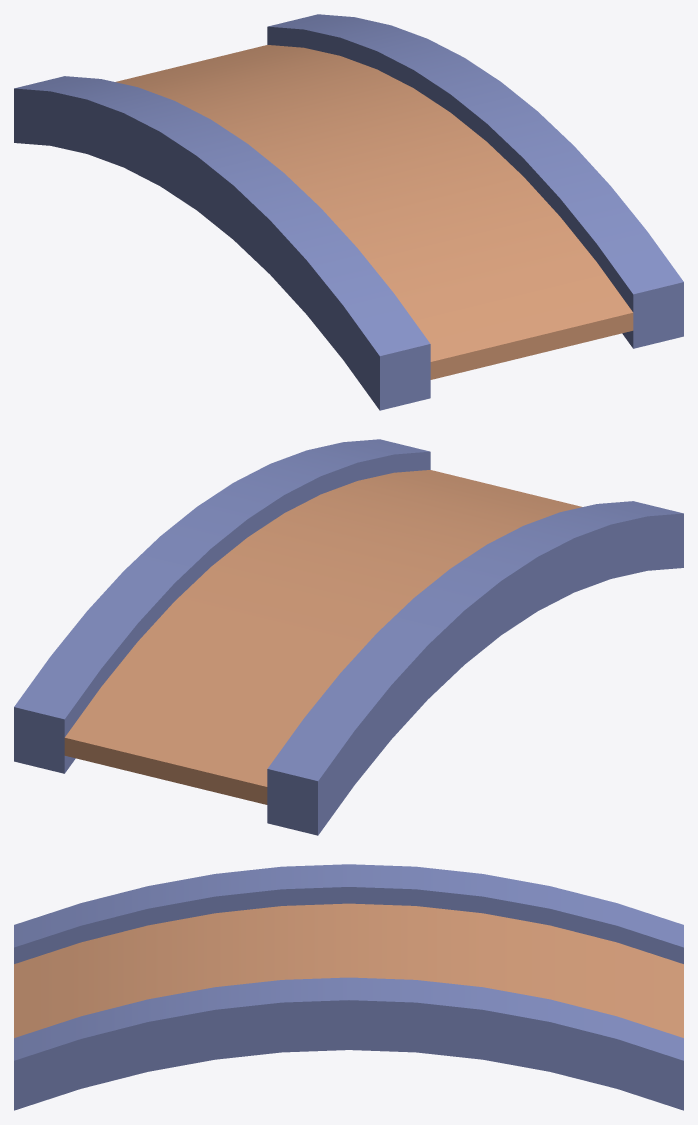
Rendered from bridge_2b_1.fbx.
The picture shows the model from 3 angles, top to bottom: view 1: azimuth 30°, elevation 25°; view 2: azimuth 150°, elevation 25°; view 3: azimuth 270°, elevation 25°; orthographic projection. The views are drawn at different scales.
Parts seen in each view (by area): view 1: bridge_2b_1; view 2: bridge_2b_1; view 3: bridge_2b_1.
Boxes of the visible parts, left/top/right/bottom form: bridge_2b_1: left=14, top=14, right=683, bottom=410; bridge_2b_1: left=14, top=439, right=683, bottom=835; bridge_2b_1: left=14, top=864, right=683, bottom=1110.
Size of the model in its own units: 9.6 by 3.64 by 20.
